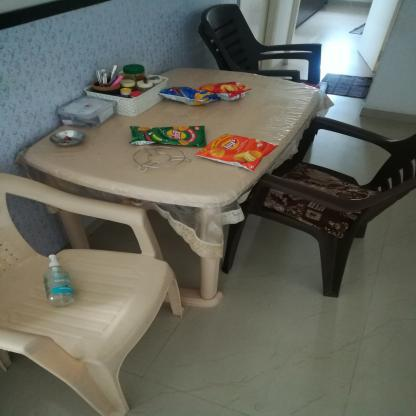chile_limon: (130, 119, 205, 148)
hot_and_sweet: (197, 124, 275, 165)
indian_magic_masala: (160, 84, 217, 111)
tangy_tomato: (204, 75, 254, 99)
